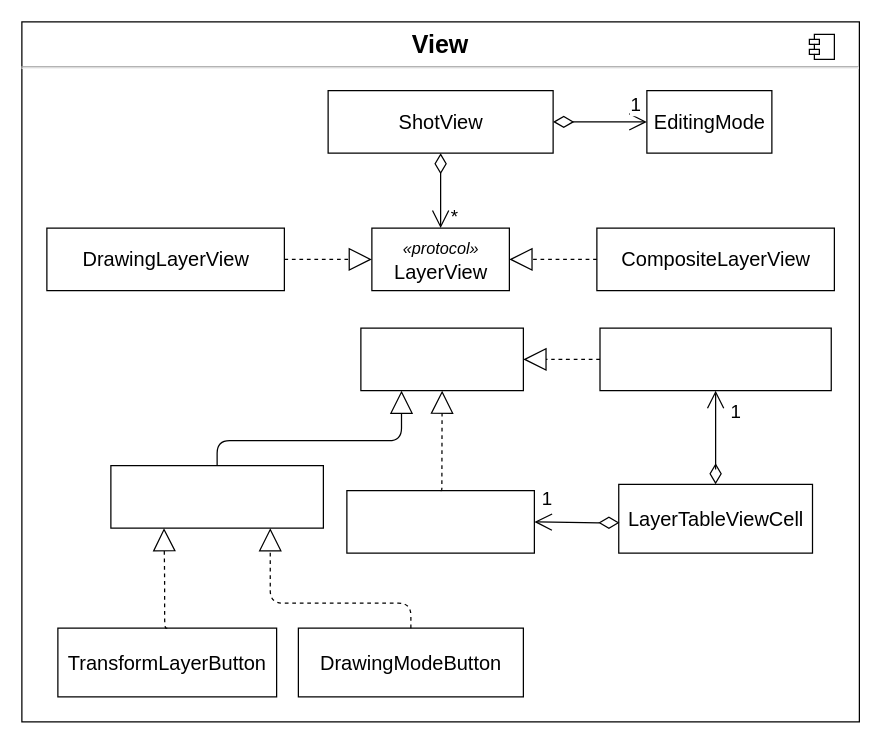
The diagram is 881 pixels wide and 744 high, and some of its shapes have lost their labels. The box of each missing label's shape, as (x1, y1, x2, y2) in pixels:
LayerLockButton: (346, 489, 534, 553)
LayerVisibilityButton: (599, 327, 831, 391)
«protocol» SelectableView: (360, 327, 523, 391)
«protocol» ShotDesignerButton: (110, 464, 323, 528)
